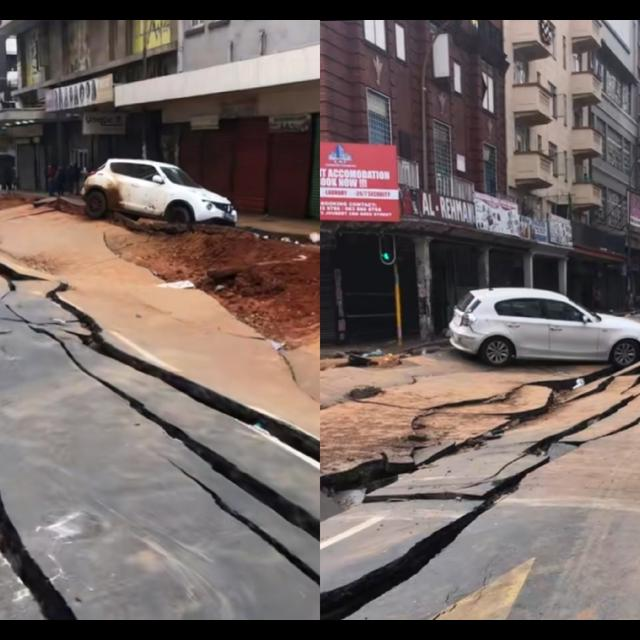retak_memanjang: (30, 310, 314, 572), (322, 436, 551, 616), (0, 253, 77, 620), (547, 351, 640, 441)
